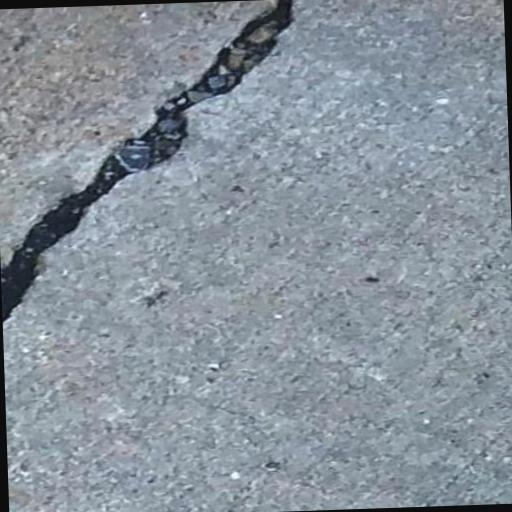spalling: (2, 0, 317, 332)
